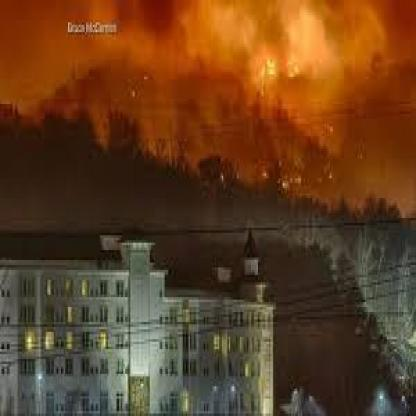fire: (0, 1, 402, 196)
